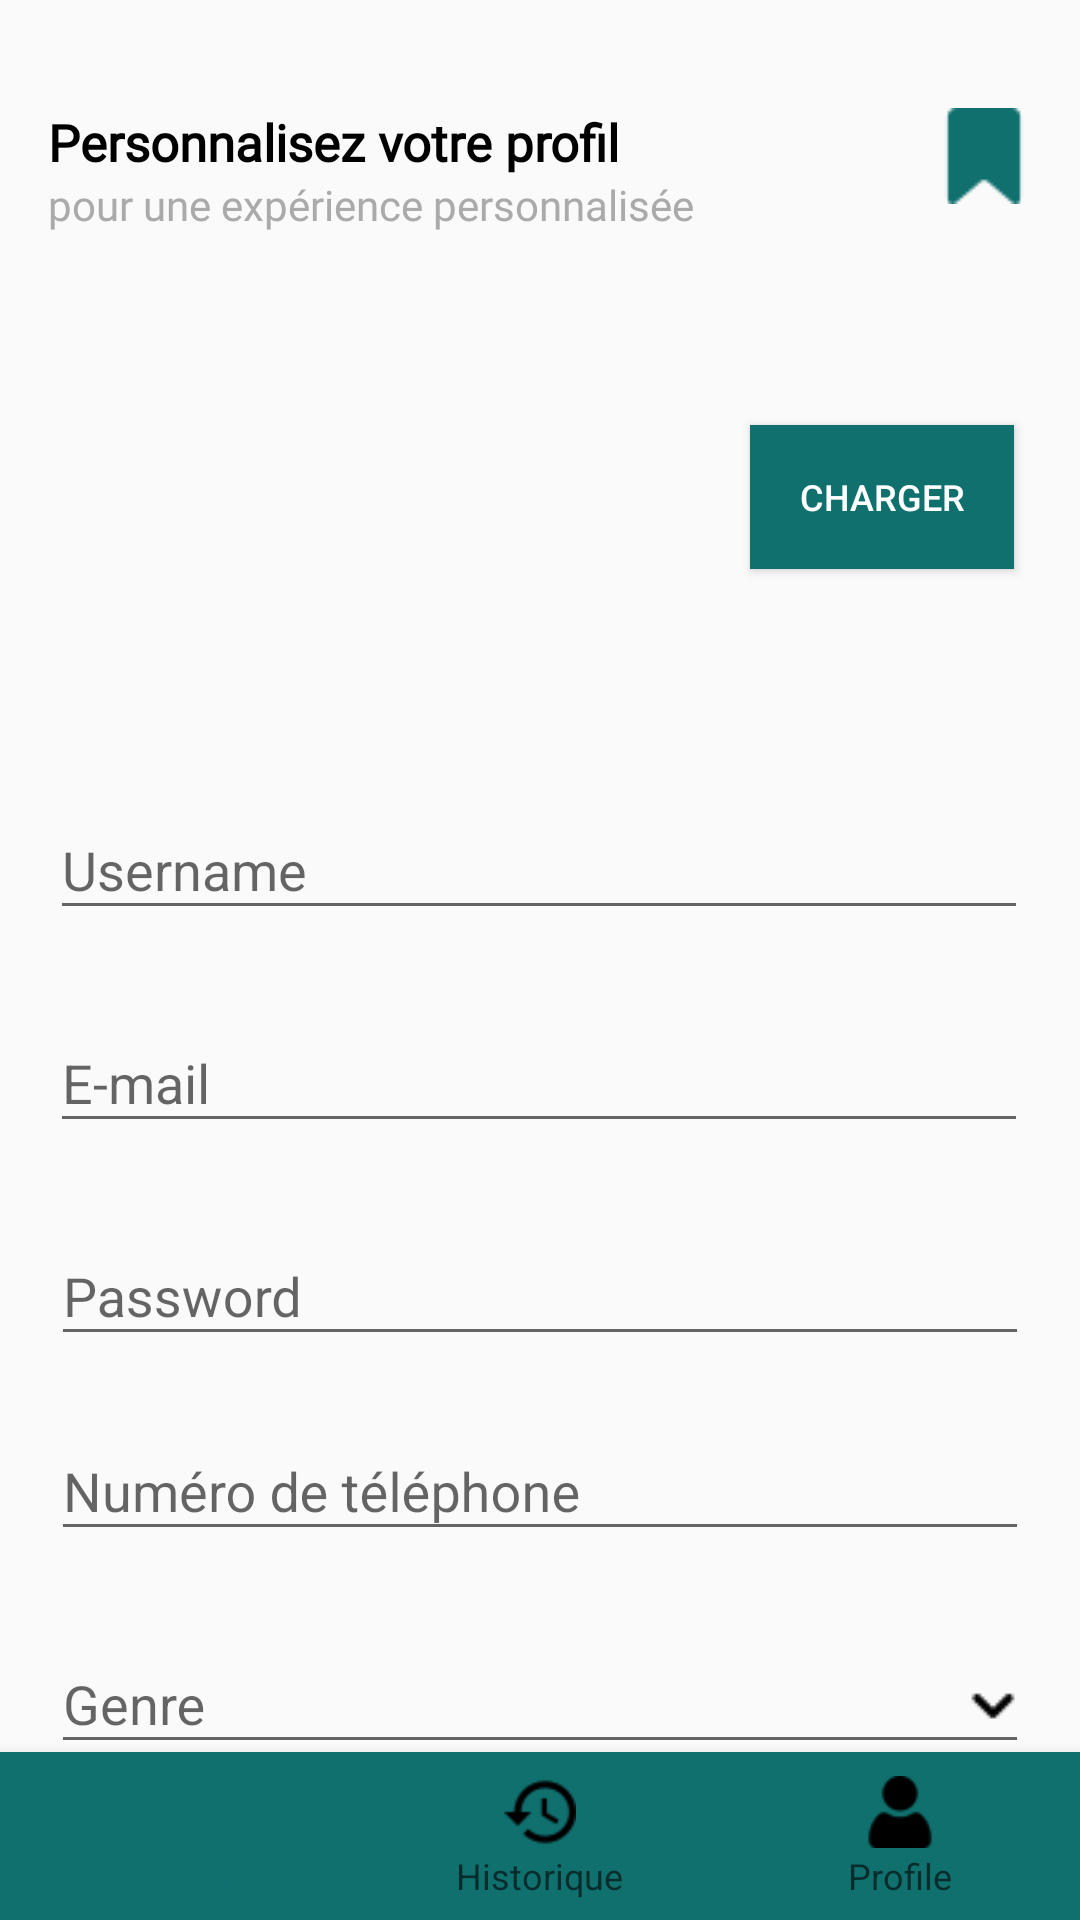

Icon click points for this 1080px x 1920px phone screenshot, format [x,y]:
save: [984,156]
